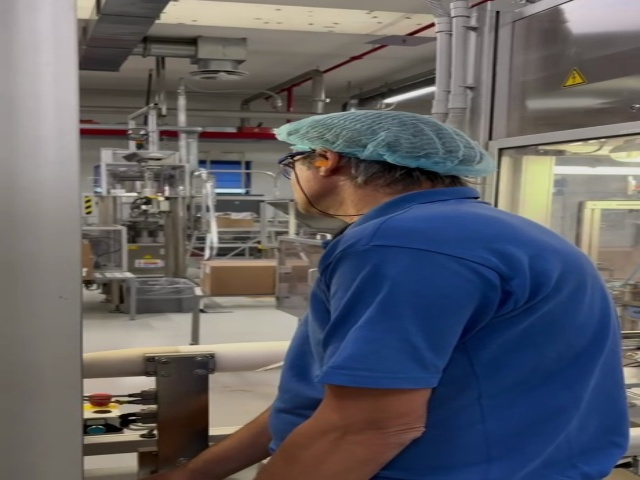Earplug: (312, 151, 337, 177)
Hairnet: (272, 109, 495, 175)
No_Helmet: (273, 109, 492, 175)
No_Vest: (277, 210, 627, 480)
Person: (273, 108, 626, 480)
Safety_Goggles: (278, 148, 320, 172)
